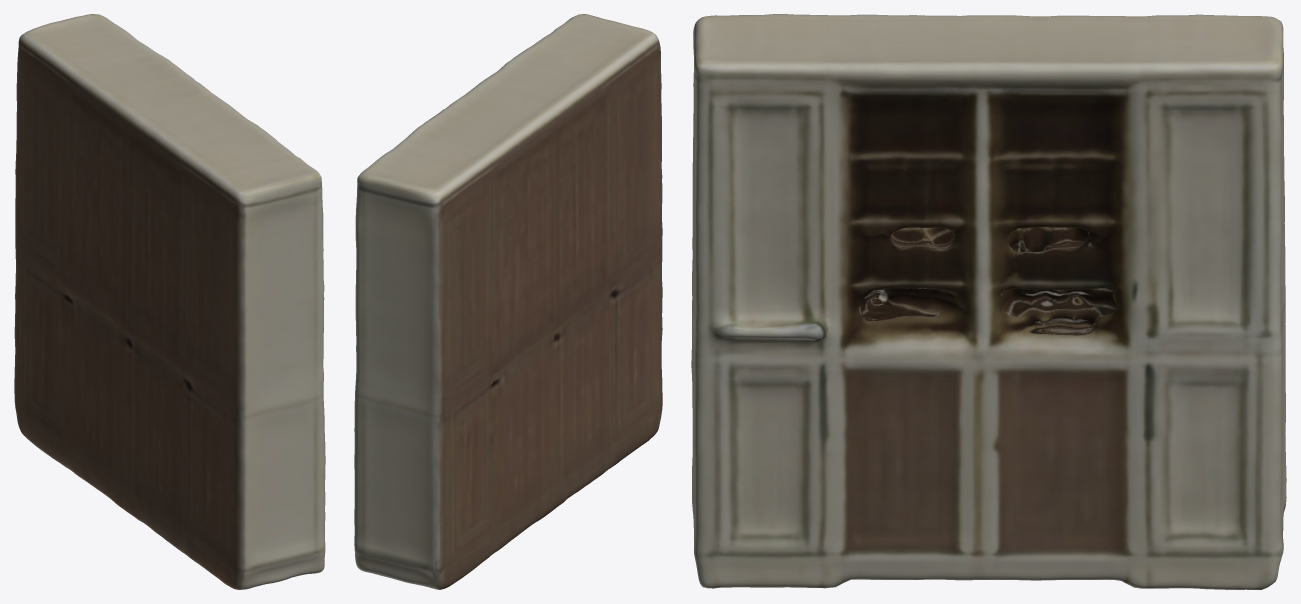
Rendered from cabinatory.obj.
3 renders of one model, left to right at view 1: azimuth 30°, elevation 25°; view 2: azimuth 150°, elevation 25°; view 3: azimuth 270°, elevation 25°, orthographic. The views are drawn at different scales.
Visible parts, largest first — view 1: mesh; view 2: mesh; view 3: mesh.
Boxes of the visible parts, box(x1,y1,x2,y2) form: mesh: box(14, 14, 325, 589); mesh: box(354, 14, 662, 589); mesh: box(691, 14, 1286, 589).
Size of the model in its own units: 0.2515 by 0.9746 by 0.9972.
1 material, 1 textured.
